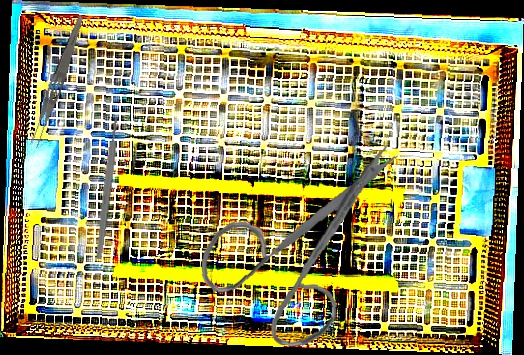Dressing Forceps: (26, 13, 87, 150)
Iris Scissors: (196, 130, 401, 353)
Scalpel Handle: (94, 116, 121, 260)
